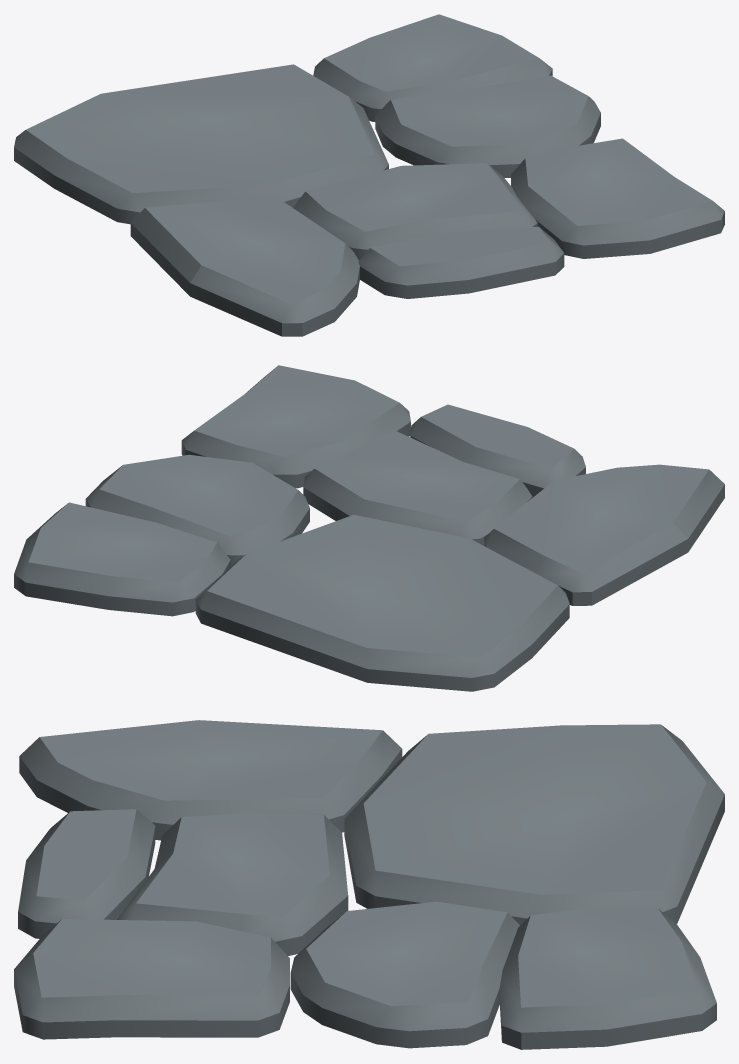
Rendered from path_A.glb.
The picture shows the model from 3 angles, top to bottom: view 1: azimuth 30°, elevation 25°; view 2: azimuth 150°, elevation 25°; view 3: azimuth 270°, elevation 25°; orthographic projection. The views are drawn at different scales.
Parts seen in each view (by area): view 1: path_A; view 2: path_A; view 3: path_A.
Part boxes in pixels (x1,y1,x2,y2): path_A: (14,14,724,336); path_A: (14,365,724,691); path_A: (14,720,724,1049).
Size of the model in its own units: 1.9 by 0.1 by 1.88.
Materials: 1 (1 with a texture image).
